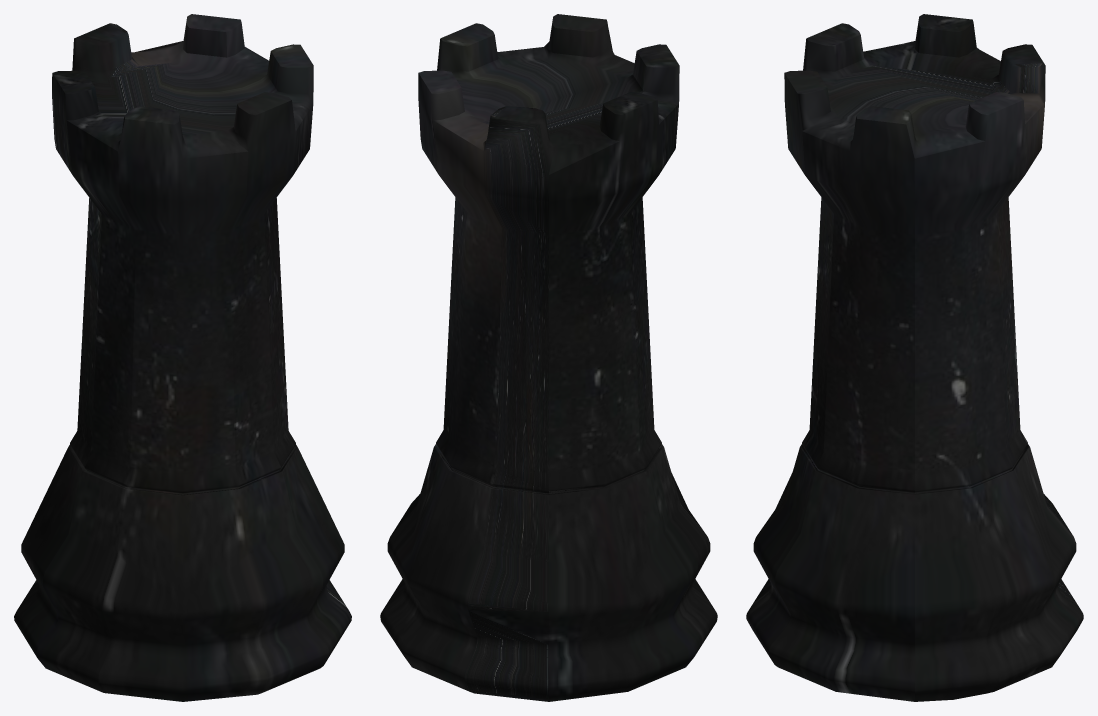
File: Rook.obj
The picture shows the model from 3 angles, left to right: view 1: azimuth 30°, elevation 25°; view 2: azimuth 150°, elevation 25°; view 3: azimuth 270°, elevation 25°; orthographic projection.
Parts seen in each view (by area): view 1: Rook; view 2: Rook; view 3: Rook.
Part boxes in pixels (x1,y1,x2,y2): Rook: (14, 14, 351, 701); Rook: (380, 14, 717, 701); Rook: (746, 14, 1083, 701).
Bounding box in the file's own units: 12.52 × 23.59 × 12.53.
1 material, 1 textured.
